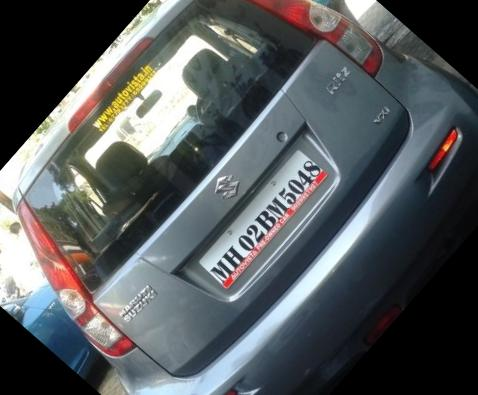plate: (184, 136, 343, 306)
